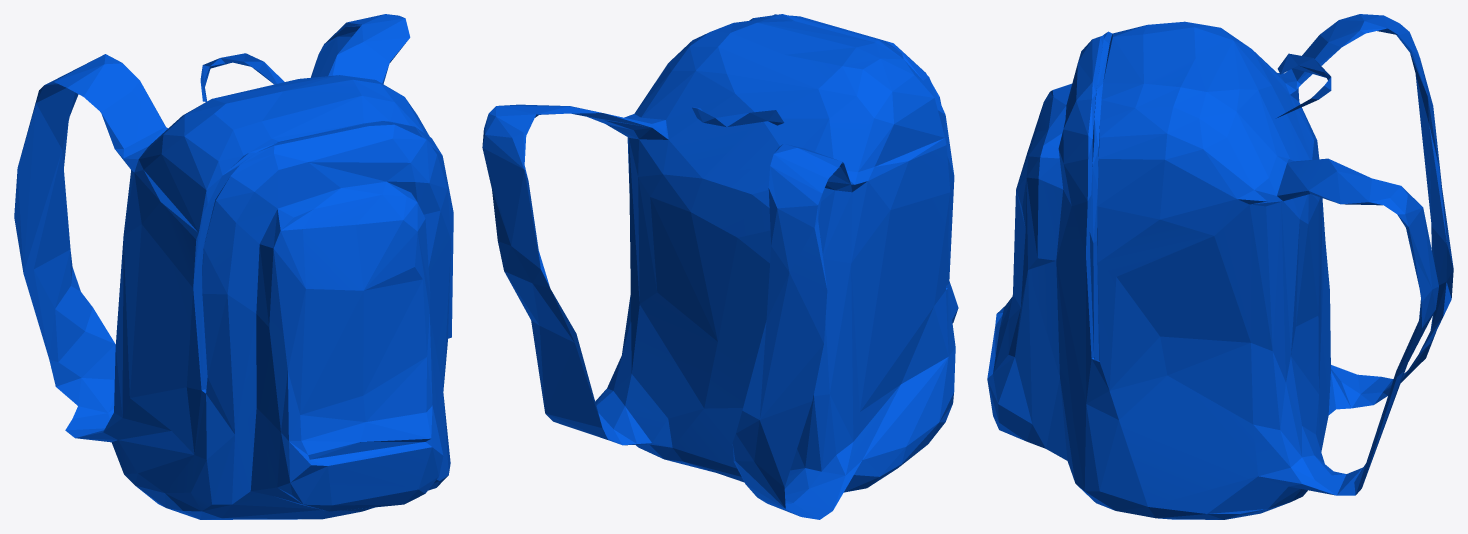
Rendered from BackpackBlue 1.fbx.
3 renders of one model, left to right at view 1: azimuth 30°, elevation 25°; view 2: azimuth 150°, elevation 25°; view 3: azimuth 270°, elevation 25°, orthographic. The views are drawn at different scales.
Visible parts, largest first — view 1: Lowpoly Back Pack; view 2: Lowpoly Back Pack; view 3: Lowpoly Back Pack.
Part boxes in pixels (x1,y1,x2,y2): Lowpoly Back Pack: [14, 14, 453, 519]; Lowpoly Back Pack: [482, 14, 958, 519]; Lowpoly Back Pack: [987, 14, 1453, 519].
Size of the model in its own units: 46.52 by 50.25 by 50.87.
